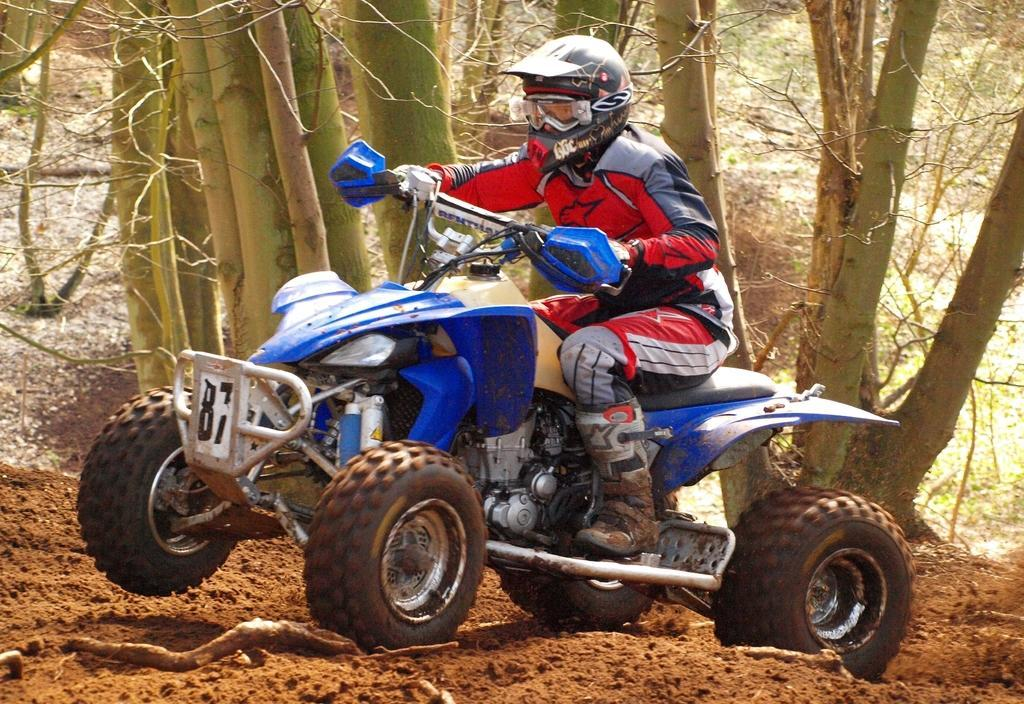helmet: (492, 33, 634, 175)
